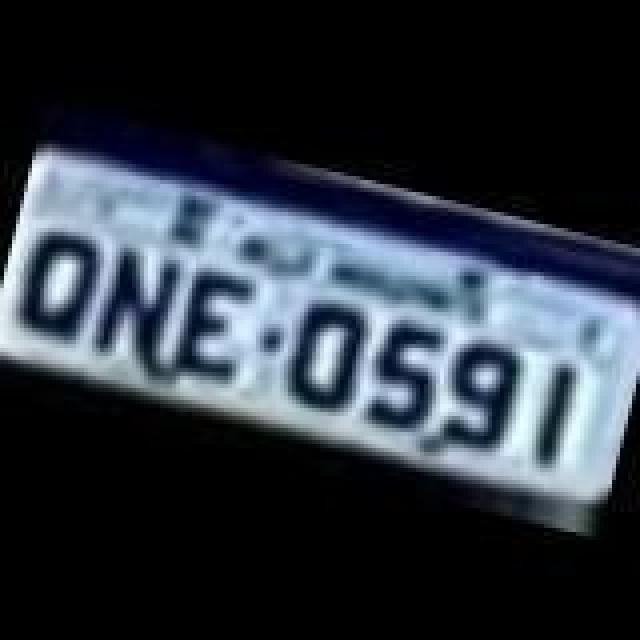1: (524, 356, 588, 476)
5: (352, 312, 448, 440)
9: (432, 336, 528, 464)
E: (170, 264, 262, 392)
N: (84, 236, 188, 372)
O: (276, 296, 380, 424)
Q: (8, 220, 104, 348)
